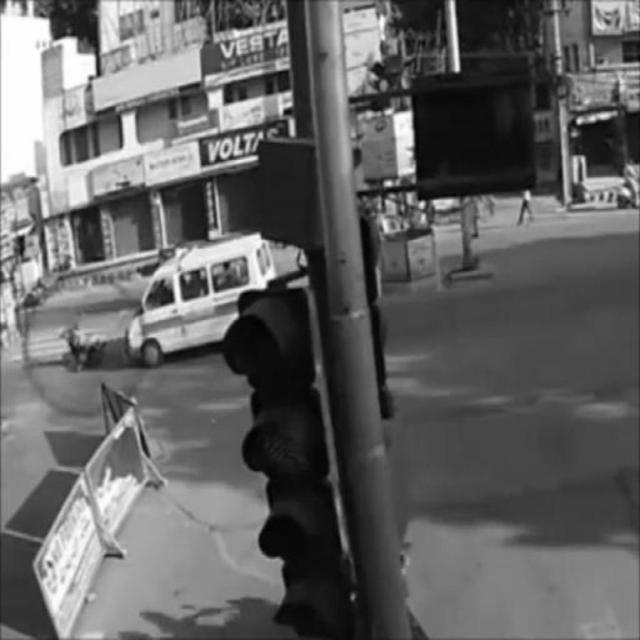vehicle: (135, 233, 283, 365)
